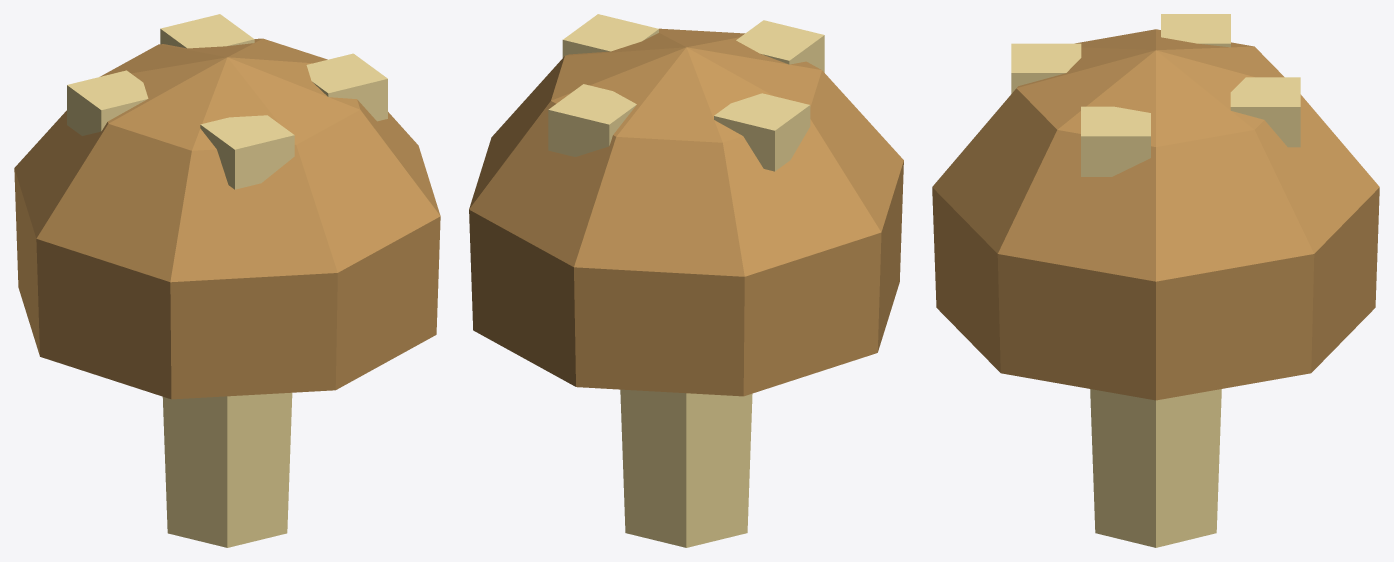
The model's file is env_r10_tan_mushroom.glb.
3 views of the same model, side by side, from view 1: azimuth 30°, elevation 25°; view 2: azimuth 150°, elevation 25°; view 3: azimuth 270°, elevation 25° (orthographic). The views are drawn at different scales.
Visible parts, largest first — view 1: env_r10_tan_mushroom; view 2: env_r10_tan_mushroom; view 3: env_r10_tan_mushroom.
Boxes of the visible parts, box(x1,y1,x2,y2) form: env_r10_tan_mushroom: box(14, 14, 440, 547); env_r10_tan_mushroom: box(469, 14, 903, 547); env_r10_tan_mushroom: box(932, 14, 1379, 547).
Bounding box in the file's own units: 1.3 × 1.5 × 1.3.
1 material, 1 textured.
